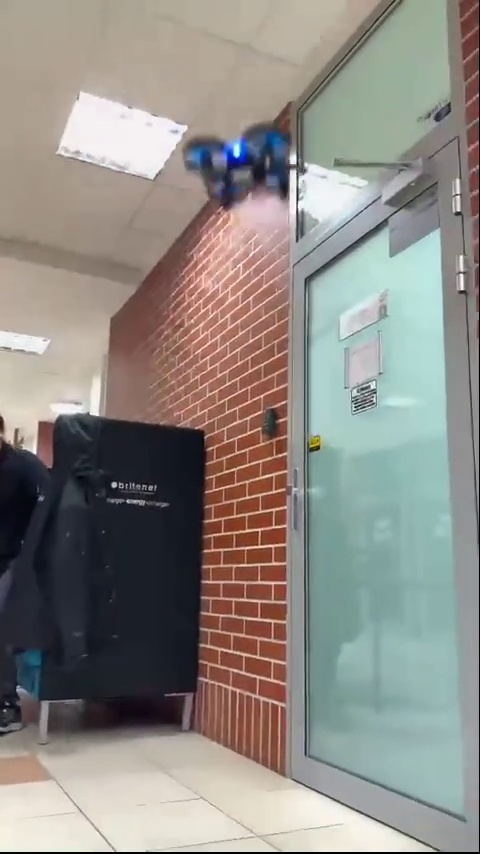drone: (192, 127, 300, 202)
